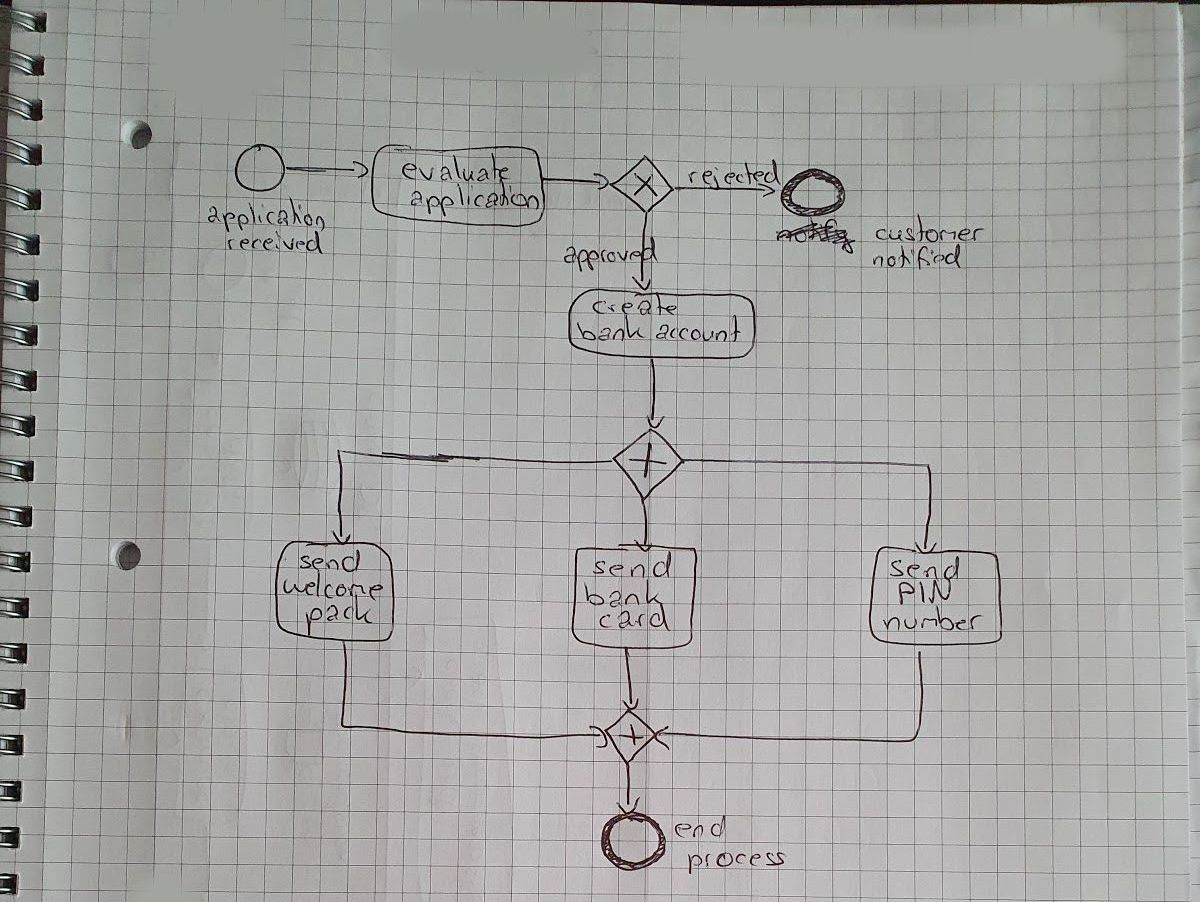PIN: (895, 579, 954, 606)
account: (654, 313, 749, 347)
application: (206, 198, 328, 233), (408, 183, 541, 215)
approved: (562, 231, 660, 273)
bank: (582, 577, 666, 609), (572, 321, 654, 346)
card: (596, 606, 671, 640)
create: (587, 289, 687, 324)
customer: (873, 214, 987, 244)
end: (674, 815, 734, 845)
evaluate: (401, 154, 514, 186)
notified: (867, 246, 964, 274)
number: (879, 608, 985, 640)
pack: (307, 601, 378, 631)
process: (682, 844, 791, 884)
received: (223, 231, 329, 257)
rejected: (684, 163, 779, 190)
send: (588, 548, 683, 582), (885, 555, 965, 582), (298, 551, 366, 575)
welcome: (280, 573, 391, 601)
